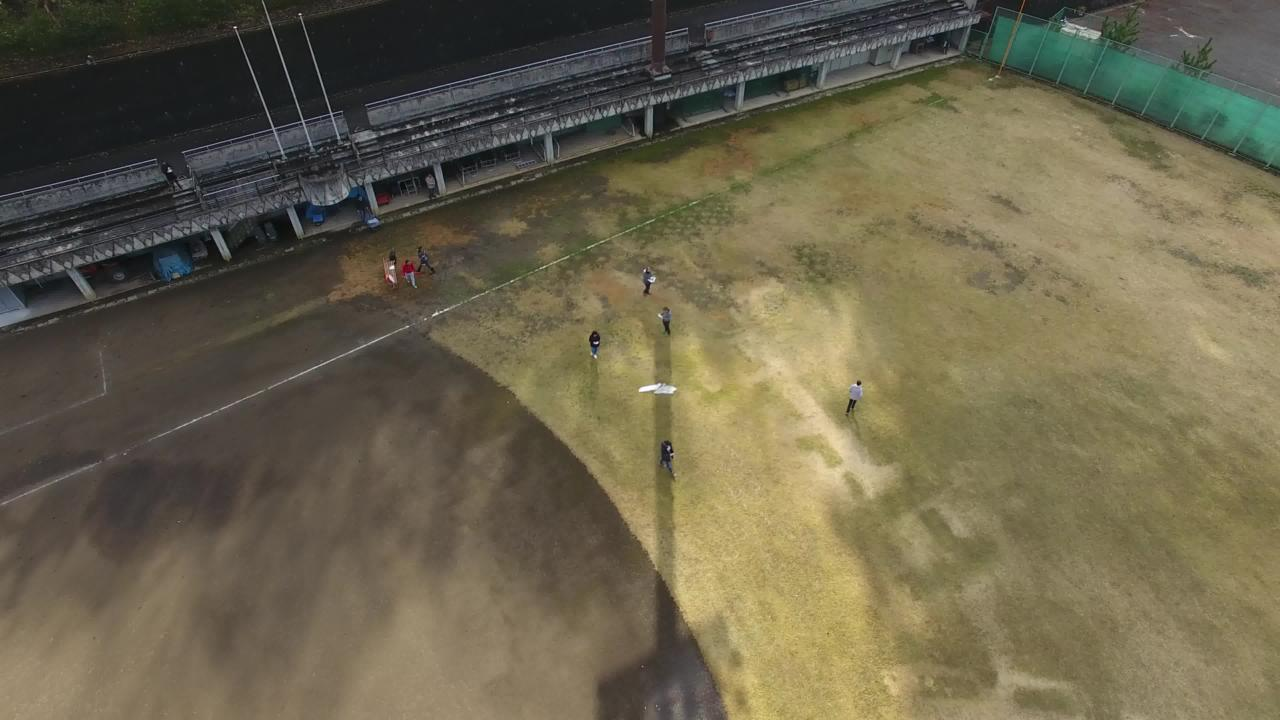person: (645, 440, 685, 496), (841, 370, 866, 430), (348, 192, 378, 230), (652, 301, 678, 341), (581, 321, 607, 361), (636, 258, 662, 298), (414, 237, 440, 277), (414, 166, 440, 206), (159, 157, 185, 197), (929, 22, 955, 62), (395, 259, 420, 284)
